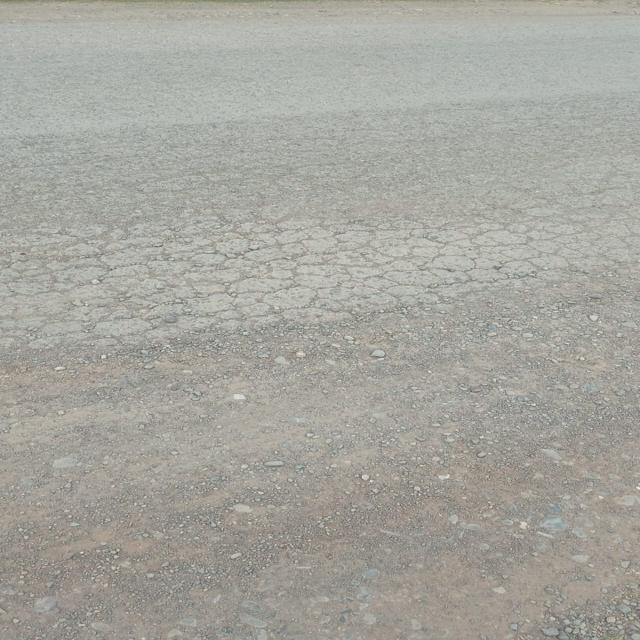Retak Buaya: (0, 222, 557, 350)
